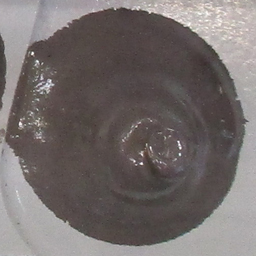perfect: (5, 3, 251, 248)
